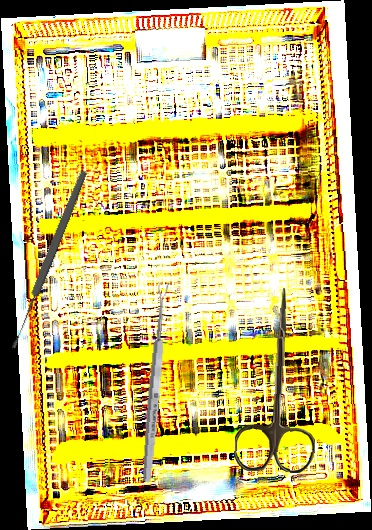Iris Scissors: (233, 286, 321, 474)
Surgical Spoon: (7, 167, 90, 352), (140, 281, 171, 483)
